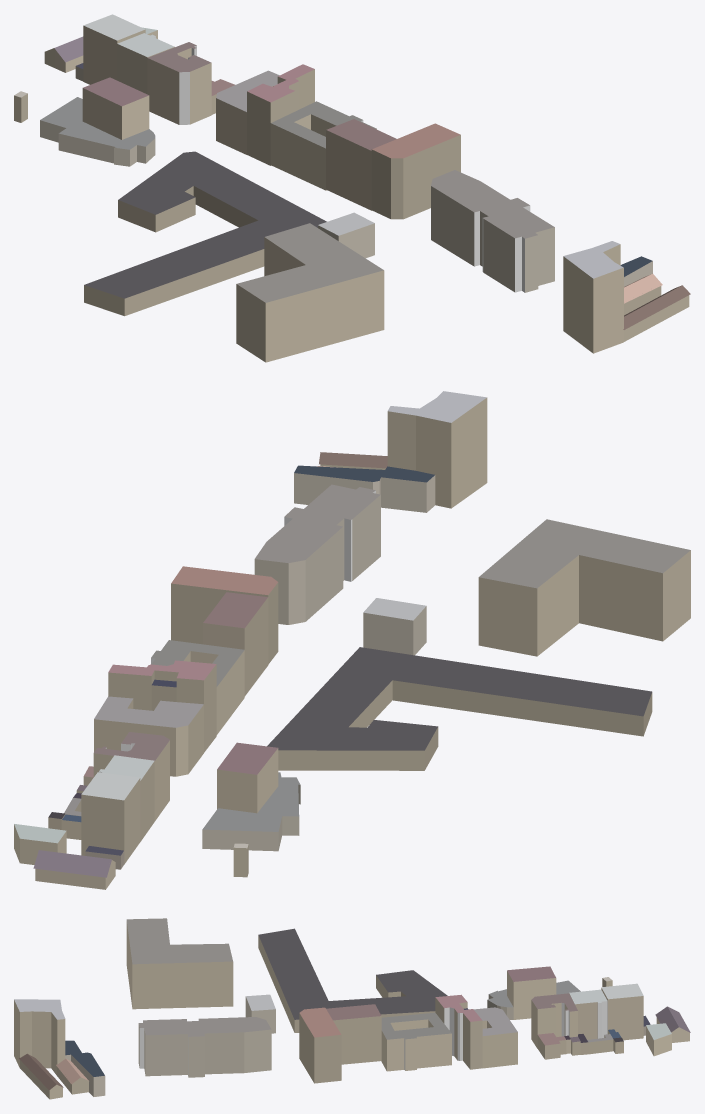
3 renders of one model, top to bottom at view 1: azimuth 30°, elevation 25°; view 2: azimuth 150°, elevation 25°; view 3: azimuth 270°, elevation 25°, orthographic. The views are drawn at different scales.
Parts seen in each view (by area): view 1: tuile; view 2: tuile; view 3: tuile.
Boxes of the visible parts, left/top/right/bottom form: tuile: left=14, top=14, right=690, bottom=362; tuile: left=14, top=391, right=690, bottom=889; tuile: left=14, top=918, right=690, bottom=1099.
Bounding box in the file's own units: 145 × 26.74 × 254.
